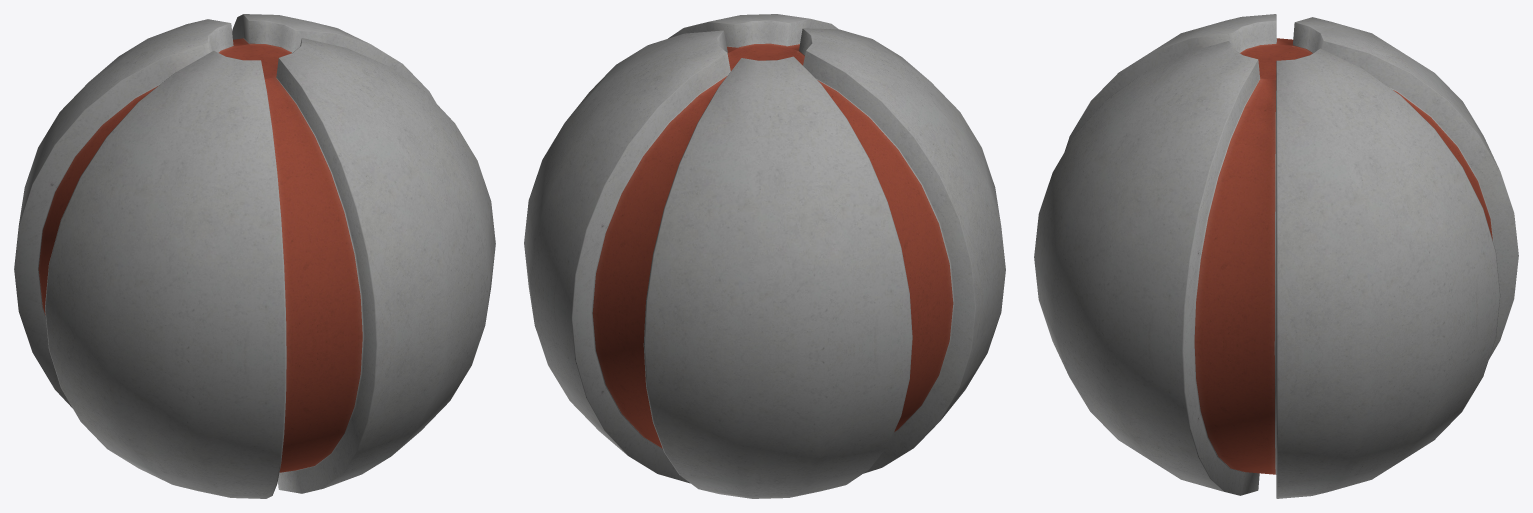
The model's file is bomb.fbx.
3 views of the same model, side by side, from view 1: azimuth 30°, elevation 25°; view 2: azimuth 150°, elevation 25°; view 3: azimuth 270°, elevation 25° (orthographic).
Visible parts, largest first — view 1: Sphere_003; view 2: Sphere_003; view 3: Sphere_003.
Boxes of the visible parts, bbox=[...] form: Sphere_003: bbox=[14, 14, 495, 498]; Sphere_003: bbox=[524, 14, 1005, 498]; Sphere_003: bbox=[1034, 14, 1518, 498].
Bounding box in the file's own units: 2 × 1.96 × 2.
